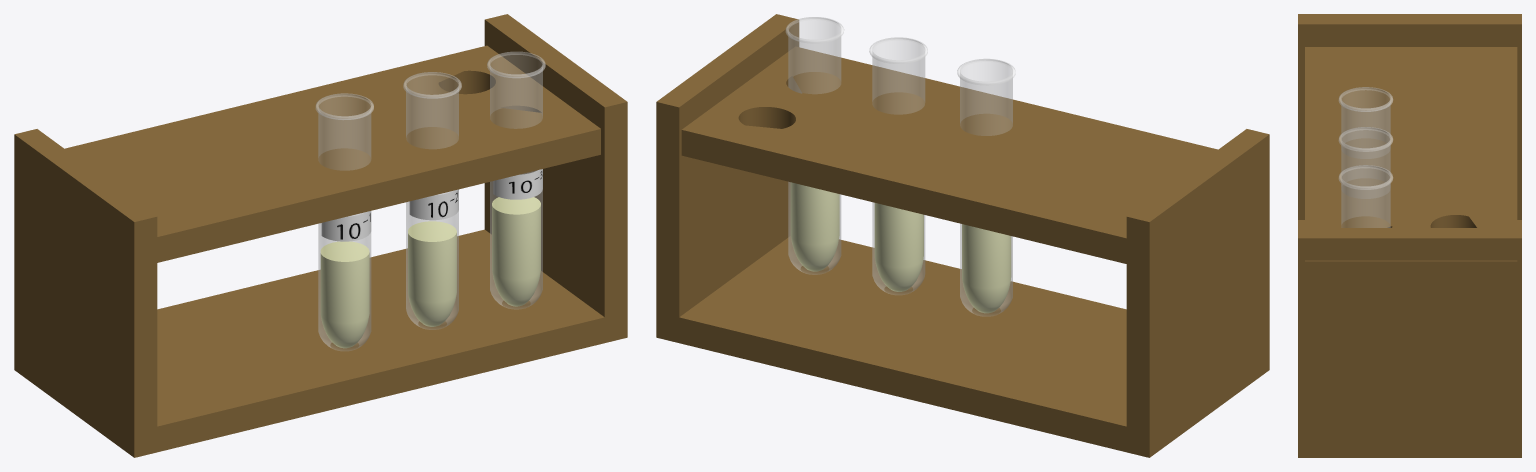
File: rak+ 3 tabung setelah pengenceran.fbx
3 renders of one model, left to right at view 1: azimuth 30°, elevation 25°; view 2: azimuth 150°, elevation 25°; view 3: azimuth 270°, elevation 25°, orthographic. The views are drawn at different scales.
Parts seen in each view (by area): view 1: rak tabung reaksi.001, lobang rak, tabung reaksi.003, tabung reaksi.001, tabung reaksi.002, tabung reaksi.006, tabung reaksi.004, tabung reaksi.005; view 2: rak tabung reaksi.001, lobang rak, tabung reaksi.001, tabung reaksi.002, tabung reaksi.003, tabung reaksi.005, tabung reaksi.004, tabung reaksi.006; view 3: rak tabung reaksi.001, lobang rak, tabung reaksi.001, tabung reaksi.003, tabung reaksi.002.
Boxes of the visible parts, x1,y1,x2,y2 form: rak tabung reaksi.001: (14,14,627,457); lobang rak: (65,45,600,262); tabung reaksi.003: (315,93,373,350); tabung reaksi.001: (487,51,545,309); tabung reaksi.002: (403,72,461,329); tabung reaksi.006: (492,197,540,306); tabung reaksi.004: (320,241,369,348); tabung reaksi.005: (408,221,456,326); rak tabung reaksi.001: (656,14,1269,457); lobang rak: (681,46,1217,263); tabung reaksi.001: (785,17,844,274); tabung reaksi.002: (869,37,927,294); tabung reaksi.003: (957,58,1015,316); tabung reaksi.005: (874,203,923,291); tabung reaksi.004: (962,224,1011,313); tabung reaksi.006: (790,182,839,271); rak tabung reaksi.001: (1298,14,1521,457); lobang rak: (1305,47,1517,285); tabung reaksi.001: (1338,165,1393,227); tabung reaksi.003: (1338,87,1393,147); tabung reaksi.002: (1338,127,1393,186).
Size of the model in its own units: 20.03 by 10.31 by 8.43.
